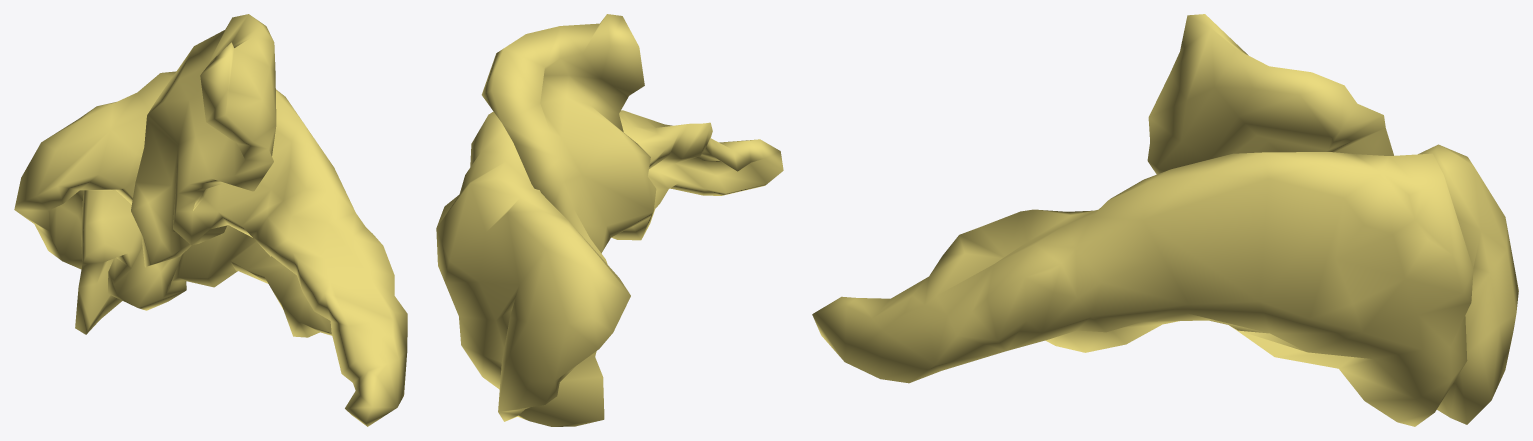
Rendered from cuneus-r.glb.
The picture shows the model from 3 angles, left to right: view 1: azimuth 30°, elevation 25°; view 2: azimuth 150°, elevation 25°; view 3: azimuth 270°, elevation 25°; orthographic projection. The views are drawn at different scales.
Parts seen in each view (by area): view 1: Cuneus.r; view 2: Cuneus.r; view 3: Cuneus.r.
Boxes of the visible parts, x1,y1,x2,y2 form: Cuneus.r: (14,14,407,426); Cuneus.r: (436,14,783,426); Cuneus.r: (812,14,1518,426).
Size of the model in its own units: 0.0195 by 0.0321 by 0.0494.
